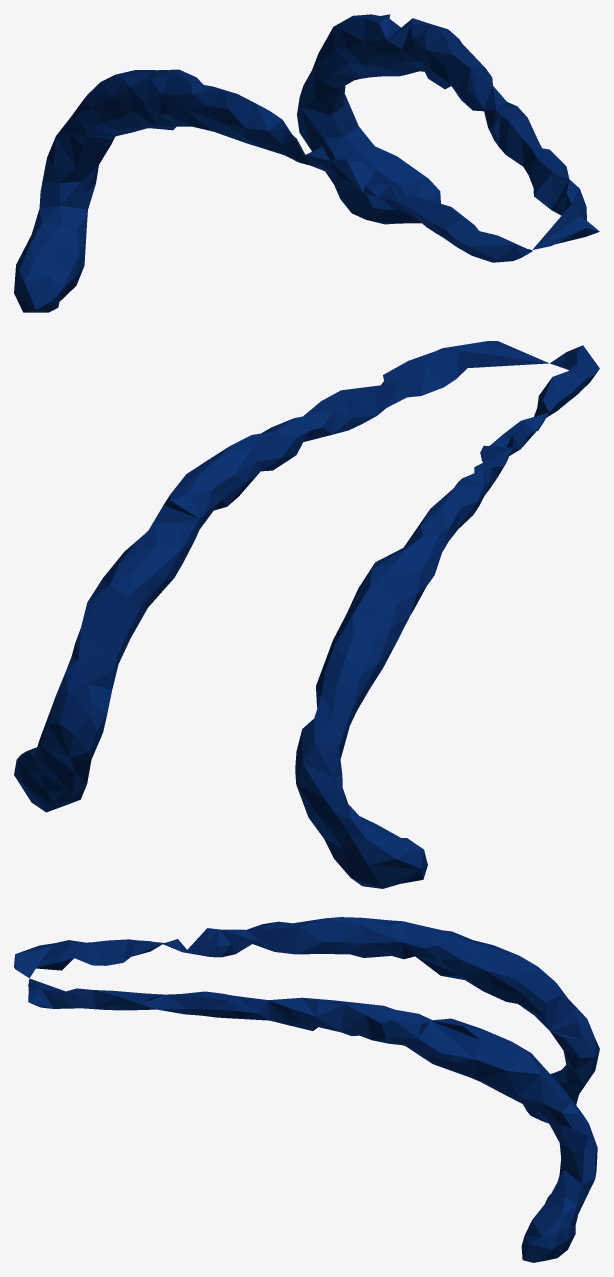
File: 156-29d-area 29d of cortex-('0.0000', '0.1922', '0.4980').obj
3 views of the same model, one above another, from view 1: azimuth 30°, elevation 25°; view 2: azimuth 150°, elevation 25°; view 3: azimuth 270°, elevation 25° (orthographic). The views are drawn at different scales.
Bounding box in the file's own units: 73.24 × 48.6 × 112.
